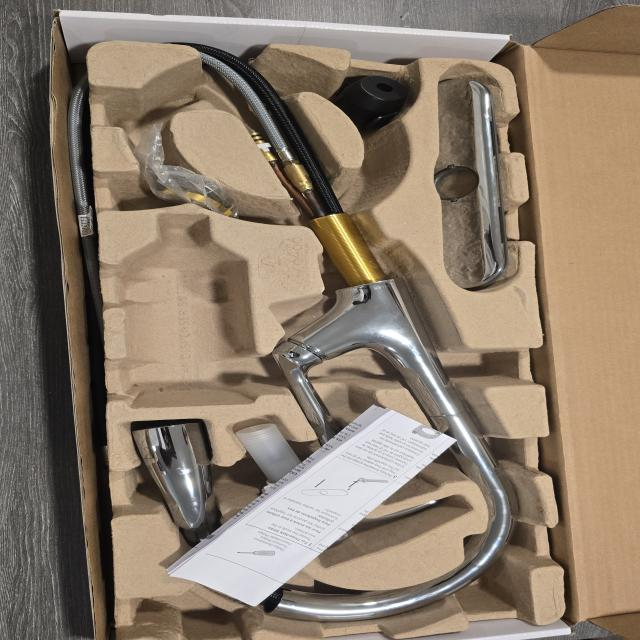1o: (133, 38, 521, 621)
2o: (233, 421, 440, 545)
3m: (121, 214, 251, 406)
4: (433, 78, 508, 290)
5: (328, 75, 413, 136)
6: (133, 122, 243, 218)
7m: (106, 68, 207, 127)
8: (163, 404, 461, 608)
